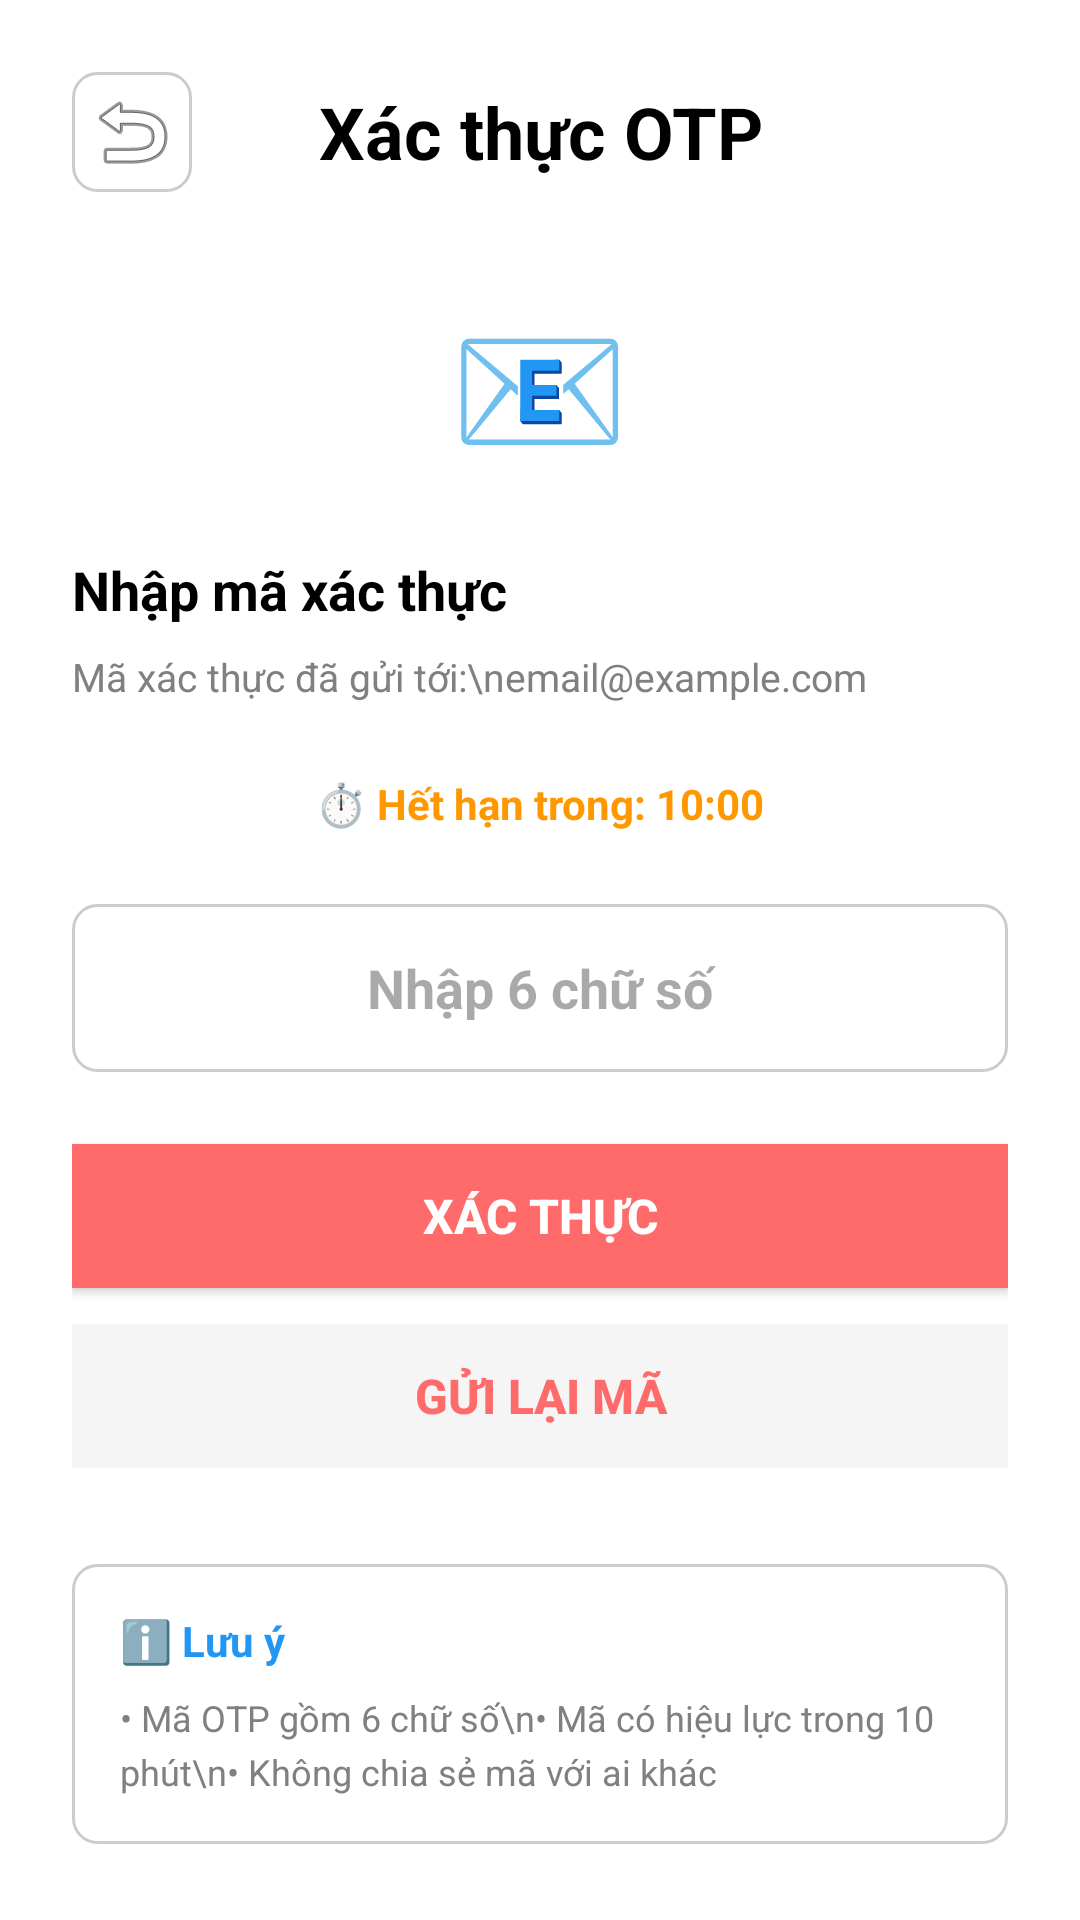

Where icons sit on this 1080 × 1920 app screen, as (x1, y1, x2, y2):
Back: (72, 72, 192, 192)
